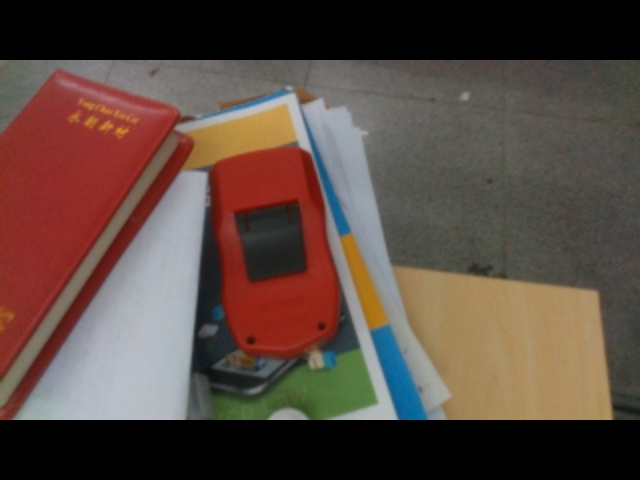Multimeter: (208, 144, 342, 358)
Screw holes: (316, 320, 327, 334), (246, 335, 256, 346)
